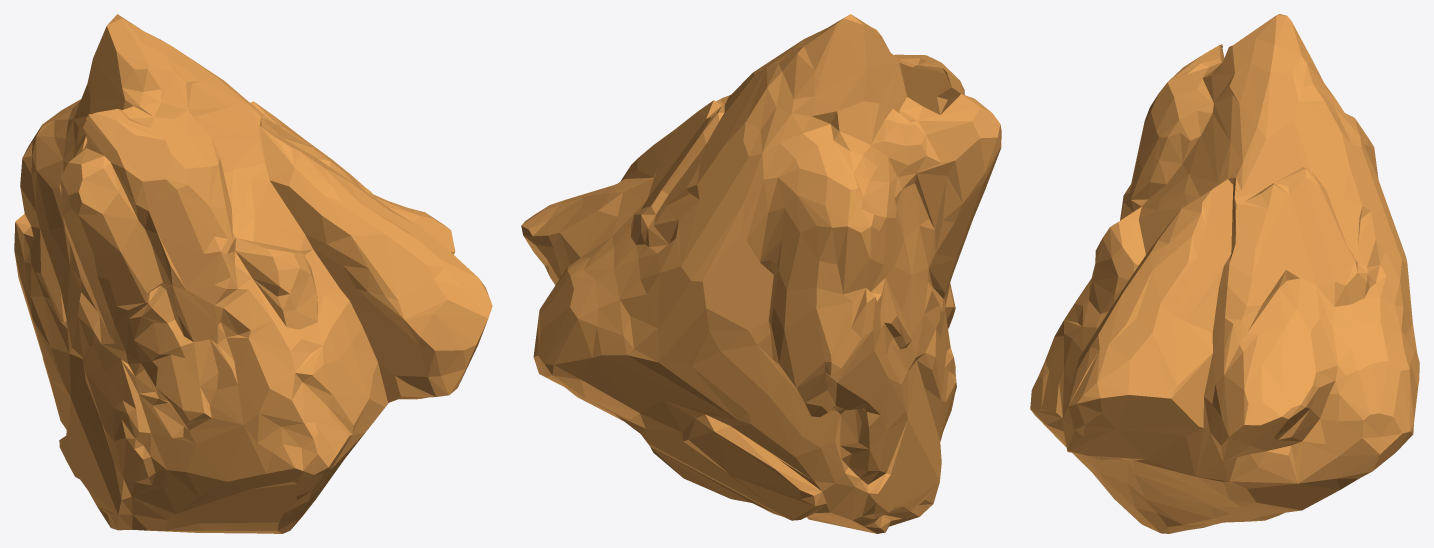
The model's file is meowverse_cliff.glb.
The picture shows the model from 3 angles, left to right: view 1: azimuth 30°, elevation 25°; view 2: azimuth 150°, elevation 25°; view 3: azimuth 270°, elevation 25°; orthographic projection. The views are drawn at different scales.
Visible parts, largest first — view 1: rock_low; view 2: rock_low; view 3: rock_low.
Boxes of the visible parts, box(x1,y1,x2,y2) form: rock_low: box(14, 14, 492, 533); rock_low: box(521, 14, 1001, 533); rock_low: box(1030, 14, 1419, 533).
Bounding box in the file's own units: 2.9 × 3.34 × 2.5.
